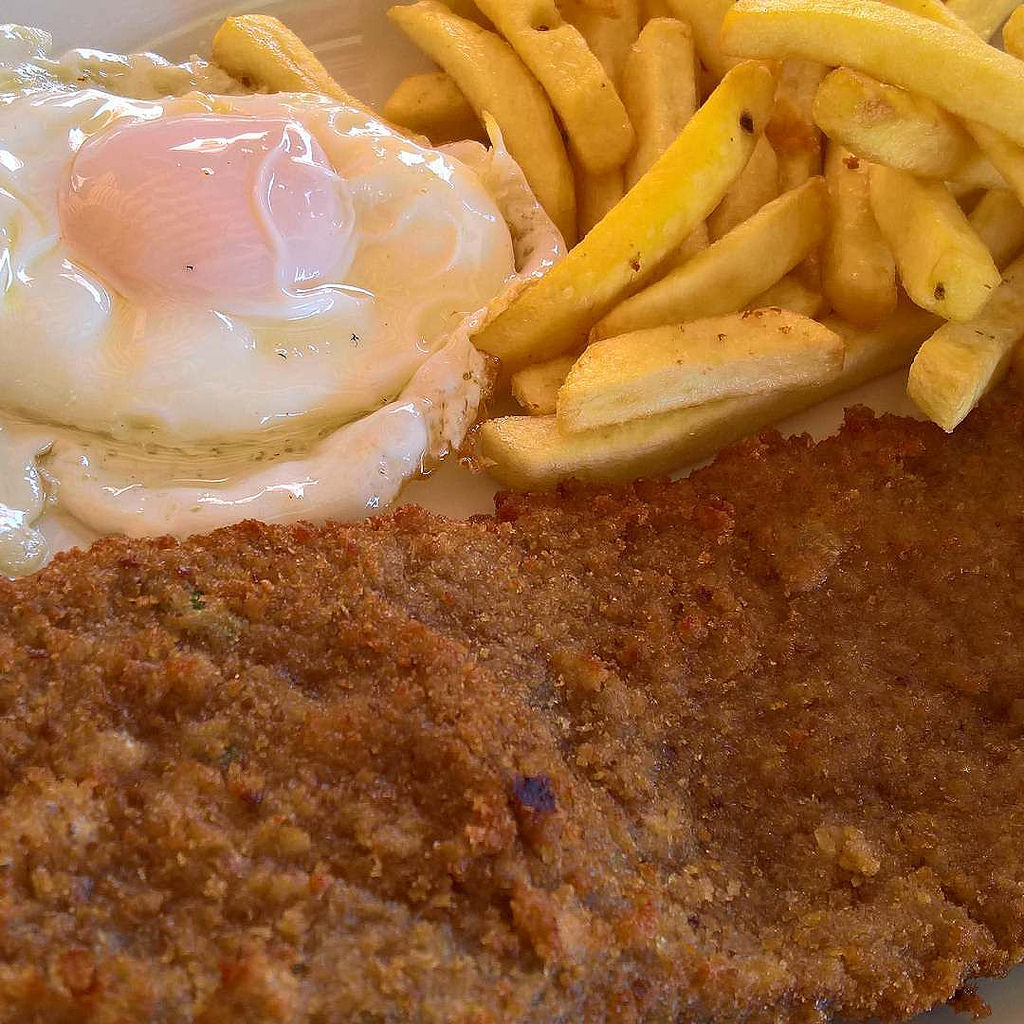fried egg: (11, 45, 450, 507)
